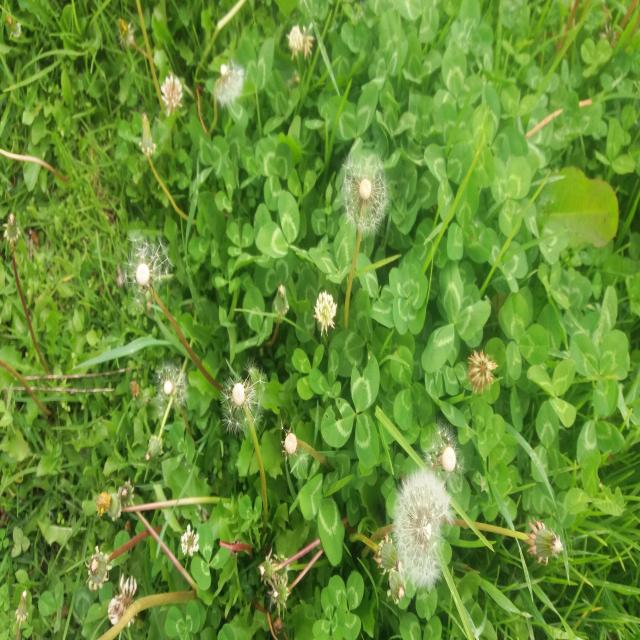Four Leaf Clover: (388, 263, 428, 336)
